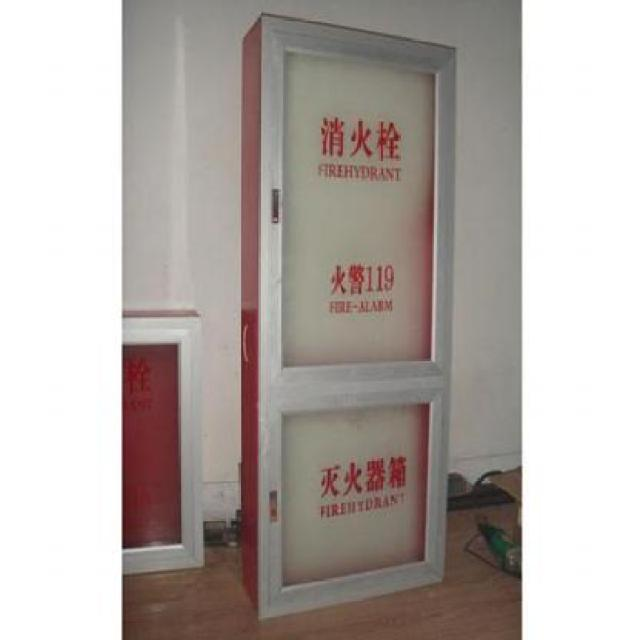firehydrant: (238, 11, 462, 629), (122, 306, 209, 579)
